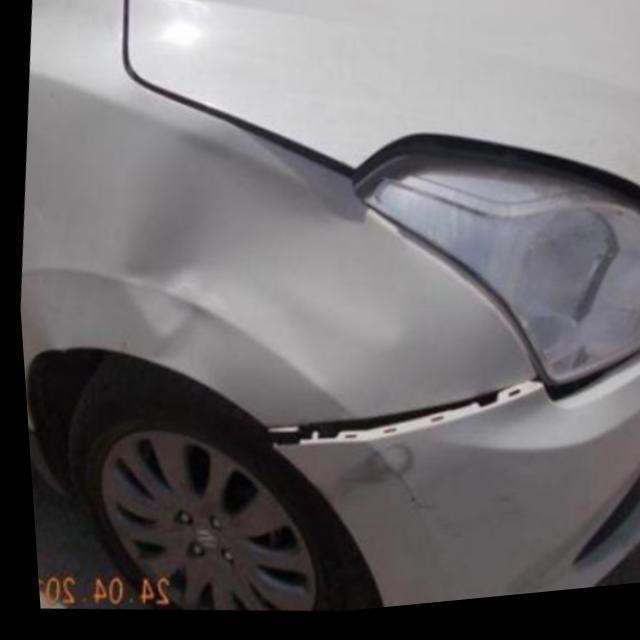dent: (111, 133, 398, 391)
dislocated part: (265, 387, 543, 454)
scratch: (314, 447, 408, 500)
